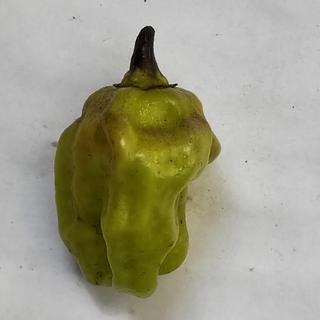Defect: (91, 215, 107, 243), (93, 271, 104, 286)
Fly-bites: (175, 213, 186, 231), (73, 211, 85, 226)
